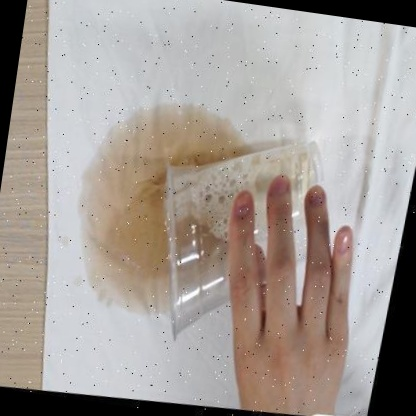coffee: (80, 155, 166, 287), (133, 110, 225, 158)
